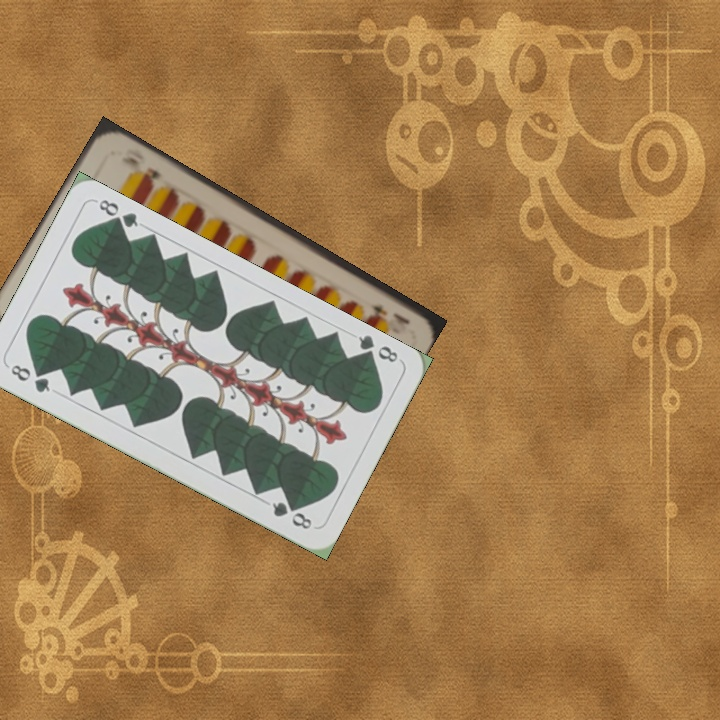E10: (365, 299, 413, 327)
G8: (6, 360, 53, 395), (354, 331, 401, 366)
